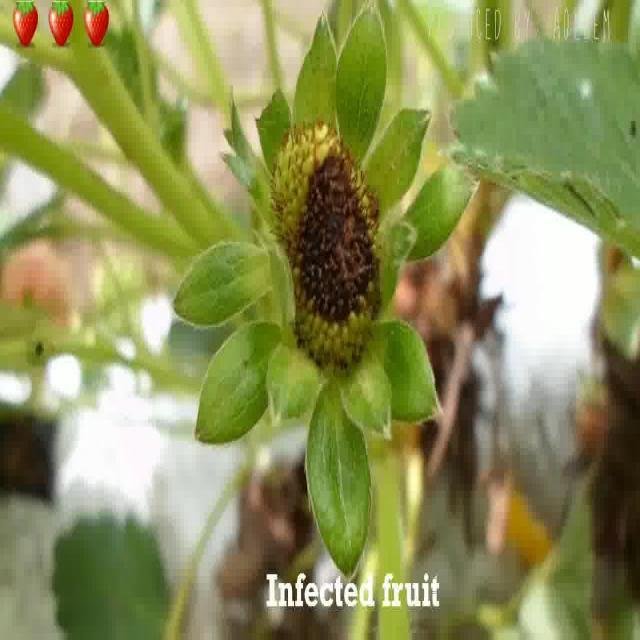Mancha negra Antracnosis: (276, 135, 385, 386)
